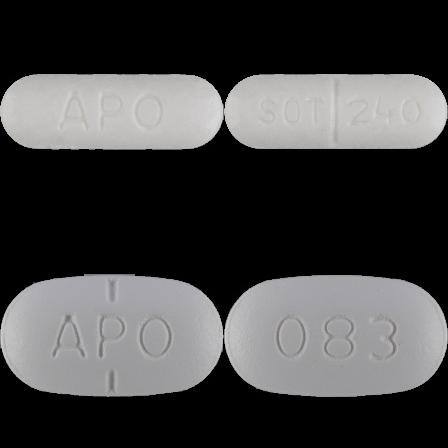60505-0082: (0, 0, 224, 224)
